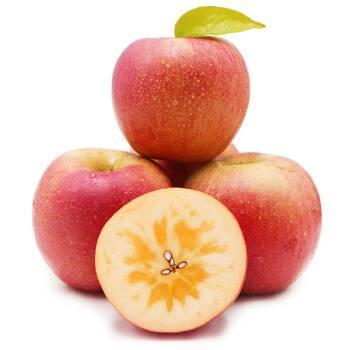apple: (182, 156, 328, 294), (32, 155, 174, 294), (110, 37, 253, 168)
